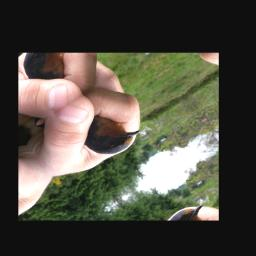Swallow: (71, 101, 147, 166)
